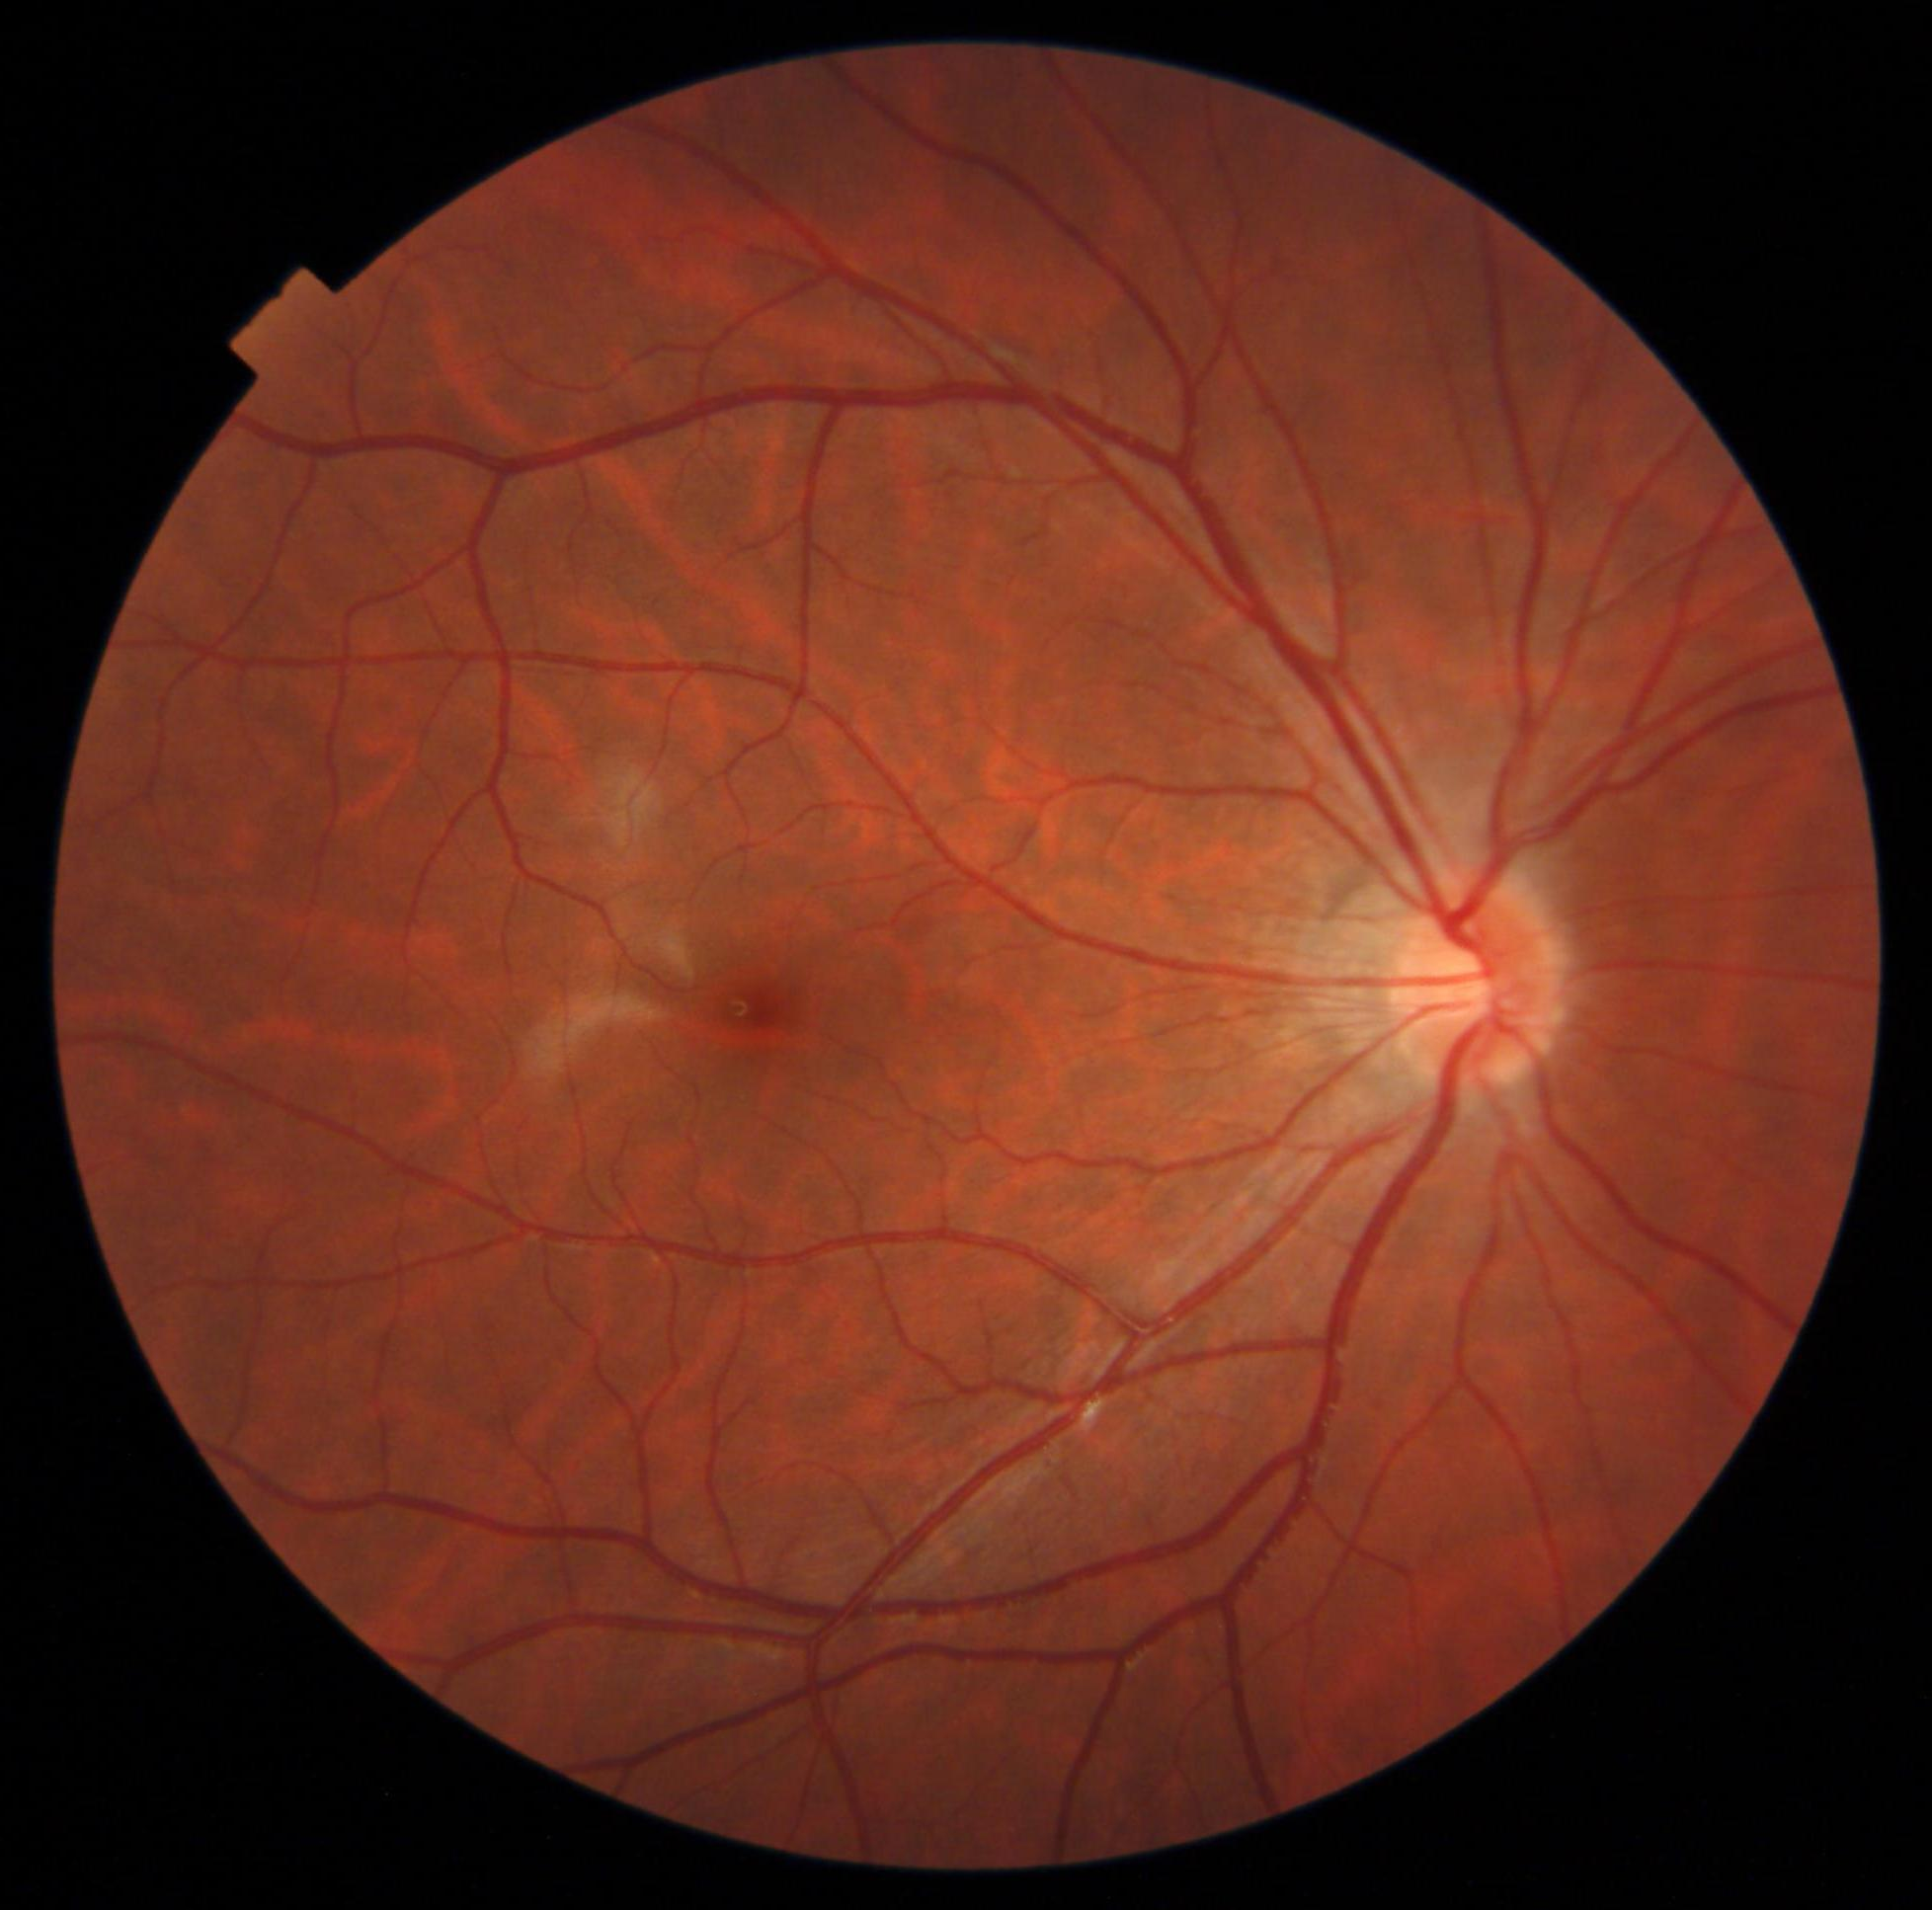Fovea: (667, 943, 810, 1081)
